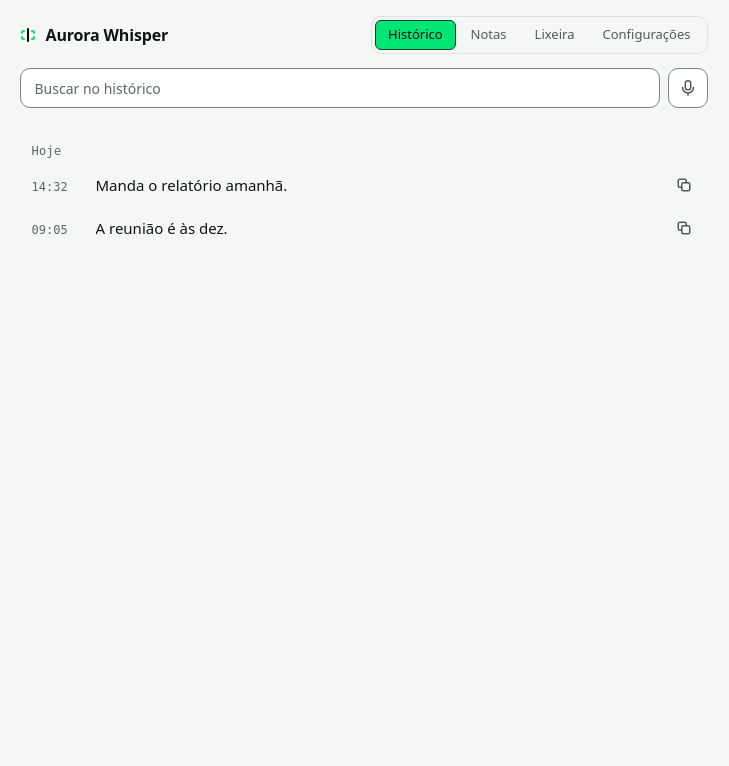
no meio do uso › salvar não pergunta se quer aprender: aprender é só no PC
The width and height of the screenshot is (729, 766).
Click the button "14:32 Manda o relatório amanhã." at [50, 187], box [20, 164, 708, 206]
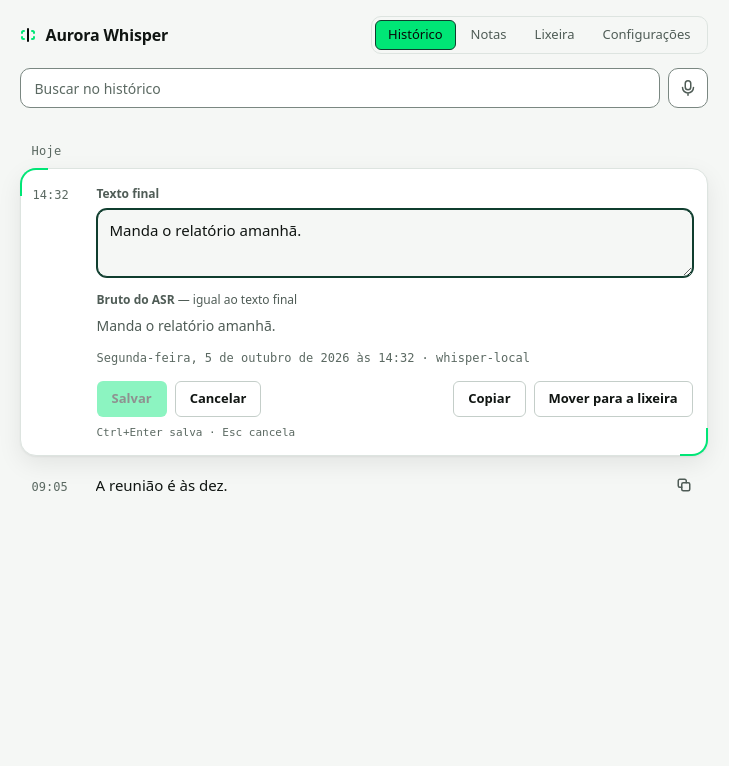
Replace the text in the text box labelled "Texto final" with "Manda o relatório hoje." at [394, 243], box [96, 209, 692, 276]
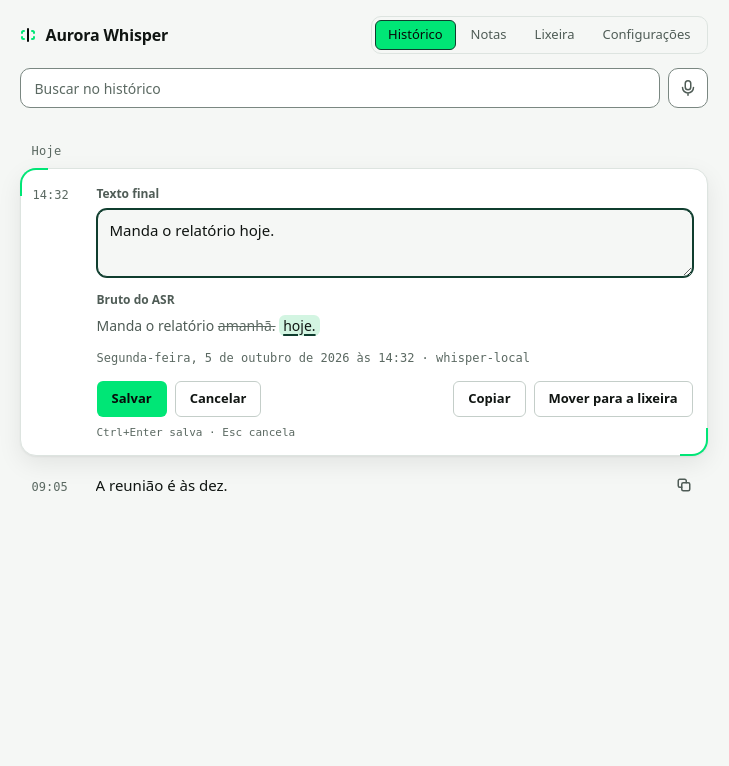
Click the button "Salvar" at [132, 399], box [96, 381, 167, 417]
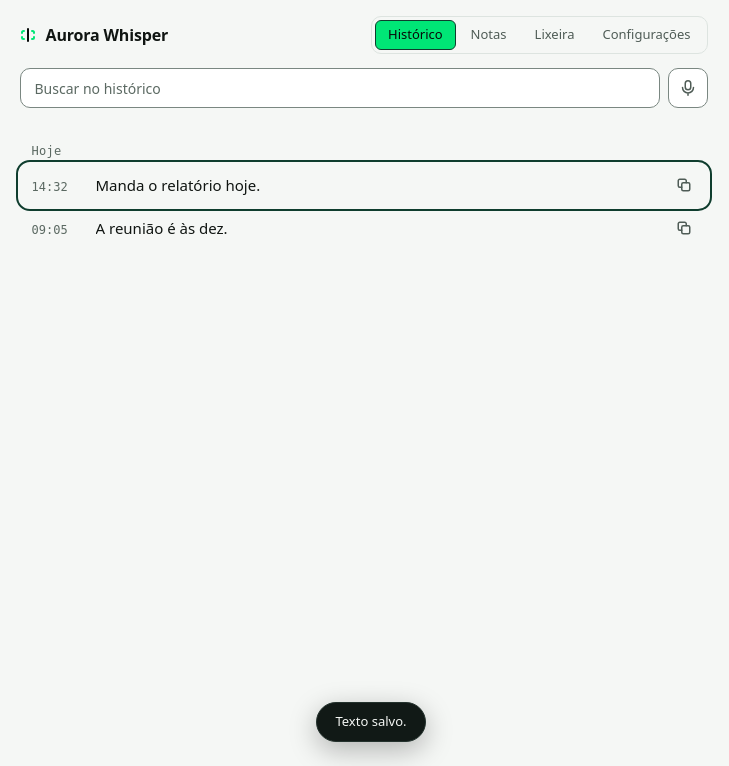
Now the message with class "aviso-regiao" reads "Texto salvo.", box [336, 712, 406, 730]
